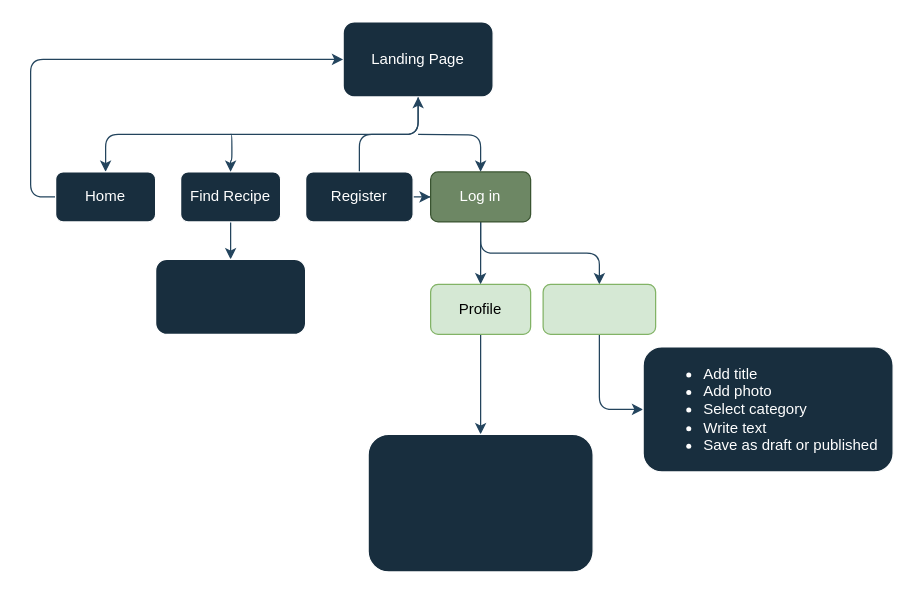
Image size: 915x594. Some labels were removed from this diagram. Each missing label, with the centre of its shape:
"Create Recipe" goes at pixel 599 308.
"Edit profile Add user image and bio Liked posts Created posts" goes at pixel 480 502.
"Search recipe by tags, title, keywords or category" goes at pixel 230 296.
